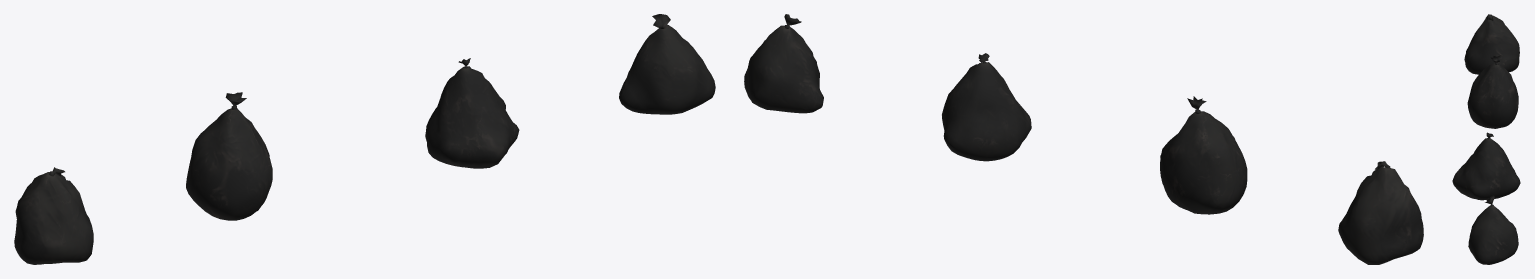
The model's file is Trash_bags.fbx.
3 views of the same model, side by side, from view 1: azimuth 30°, elevation 25°; view 2: azimuth 150°, elevation 25°; view 3: azimuth 270°, elevation 25° (orthographic). The views are drawn at different scales.
Visible parts, largest first — view 1: Trash_bag_03, Trash_bag_02, Trash_bag_01, Trash_bag_04; view 2: Trash_bag_03, Trash_bag_02, Trash_bag_04, Trash_bag_01; view 3: Trash_bag_02, Trash_bag_03, Trash_bag_01, Trash_bag_04.
Boxes of the visible parts, x1,y1,x2,y2 form: Trash_bag_03: [186, 92, 272, 220]; Trash_bag_02: [425, 58, 519, 168]; Trash_bag_01: [619, 14, 715, 114]; Trash_bag_04: [14, 167, 93, 264]; Trash_bag_03: [1160, 96, 1247, 214]; Trash_bag_02: [942, 53, 1031, 161]; Trash_bag_04: [1338, 161, 1423, 264]; Trash_bag_01: [744, 14, 823, 113]; Trash_bag_02: [1452, 132, 1520, 200]; Trash_bag_03: [1467, 55, 1518, 128]; Trash_bag_01: [1468, 195, 1518, 264]; Trash_bag_04: [1464, 14, 1519, 74].
Bounding box in the file's own units: 520 × 83.01 × 71.24.
1 material, 1 textured.
